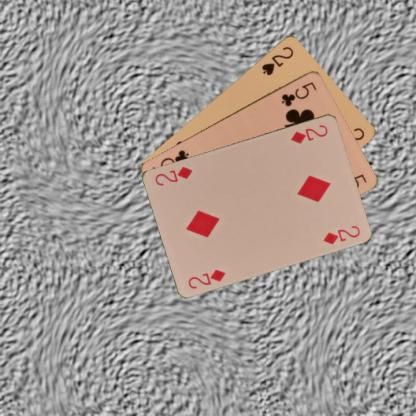2d: (186, 266, 227, 290), (288, 122, 329, 145)
2s: (259, 43, 295, 77)
5c: (278, 79, 318, 108)
